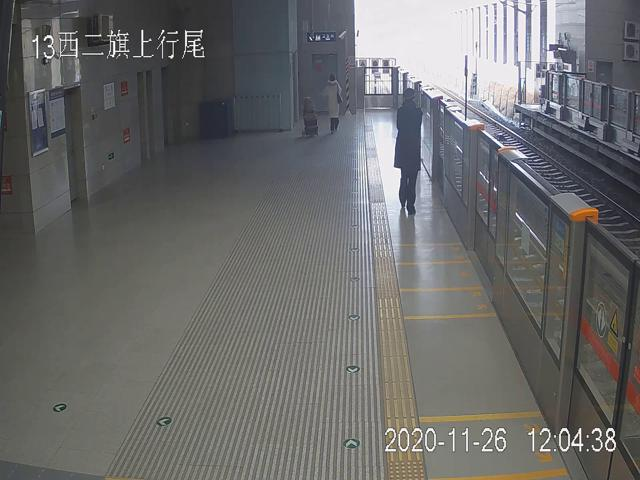person: (392, 87, 423, 215), (324, 72, 341, 134)
